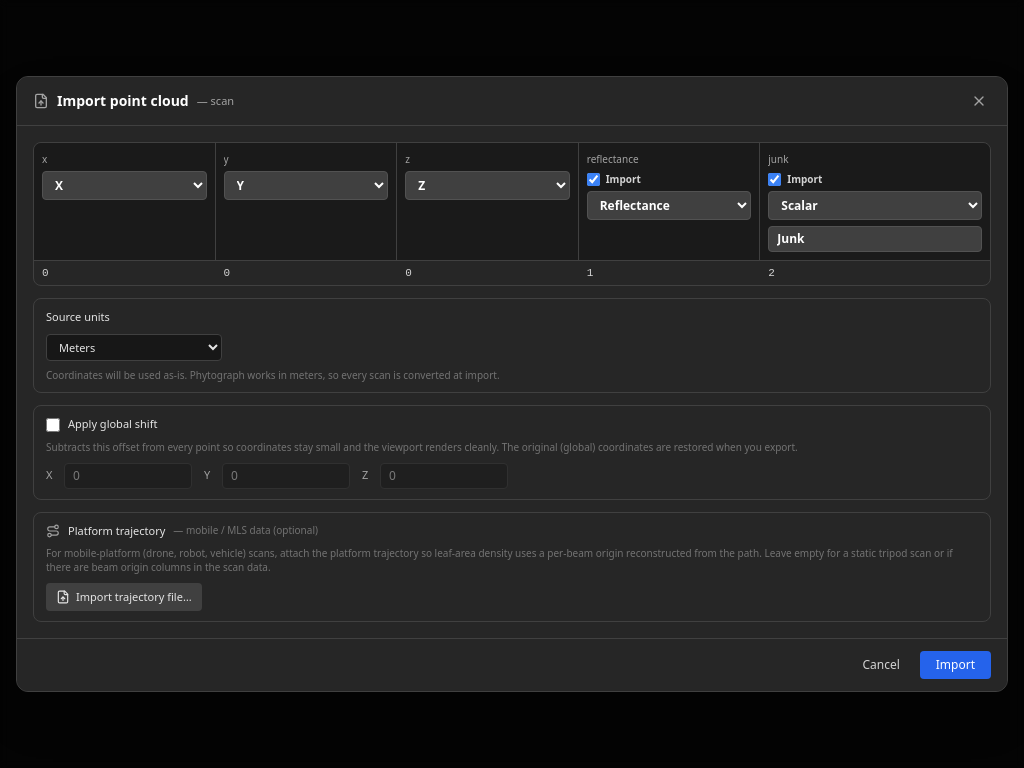
Test: PointCloudImportWizard — per-column Import checkbox › choosing Skip in the dropdown unticks the checkbox, keeping the two in sync
Expected: the number of column headings with test id "import-wizard-column" is 5, [34, 143, 215, 260]; [215, 143, 397, 260]; [397, 143, 578, 260]; [578, 143, 760, 260]; [760, 143, 990, 260]
Select "Skip" in the dropdown with test id "import-wizard-role". click: (875, 206)
box: [768, 191, 982, 220]
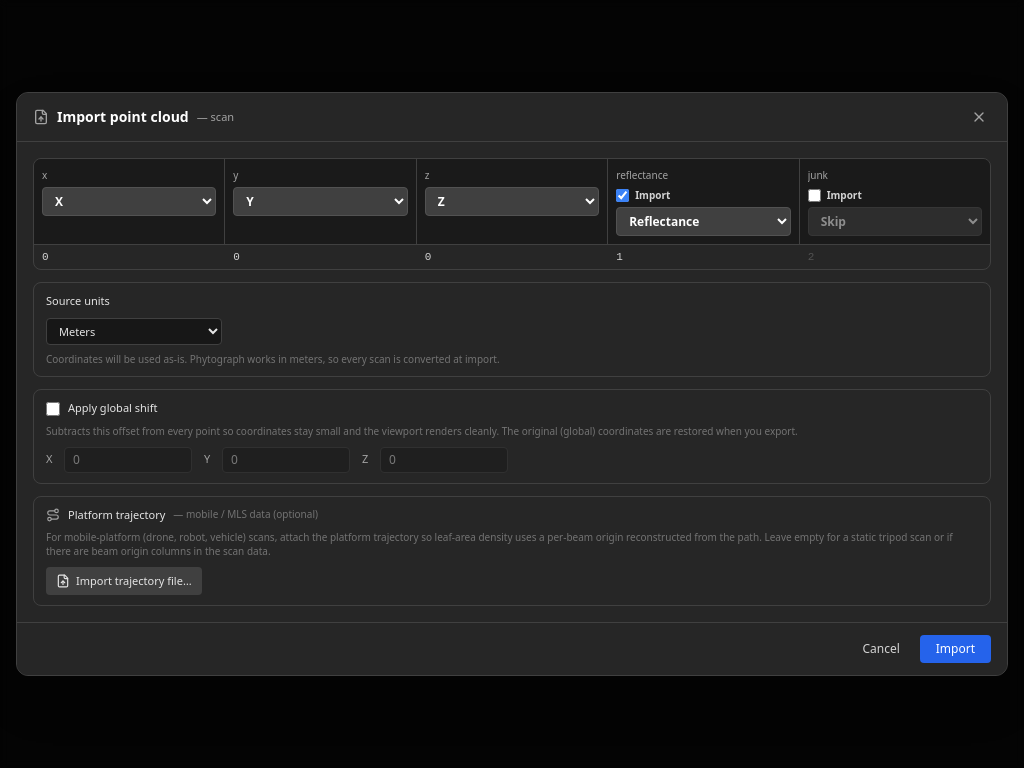
Now the checkbox with test id "import-wizard-include" below "junk" is not checked, box [808, 188, 821, 202]
